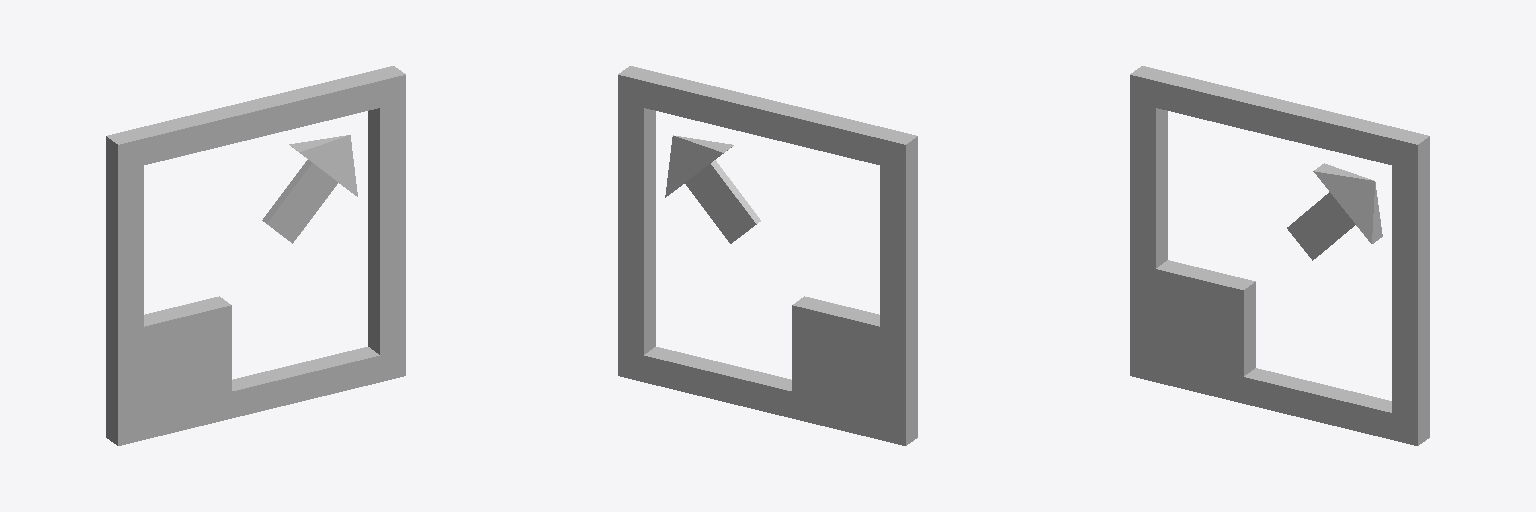
File: resolution.obj
3 views of the same model, side by side, from view 1: azimuth 30°, elevation 25°; view 2: azimuth 150°, elevation 25°; view 3: azimuth 330°, elevation 25° (orthographic).
Parts seen in each view (by area): view 1: Cube_Cube.003; view 2: Cube_Cube.003; view 3: Cube_Cube.003.
Part boxes in pixels (x1,y1,x2,y2): Cube_Cube.003: (106,66,405,445); Cube_Cube.003: (618,66,917,445); Cube_Cube.003: (1130,66,1429,445).
Bounding box in the file's own units: 2 × 2 × 0.1473.